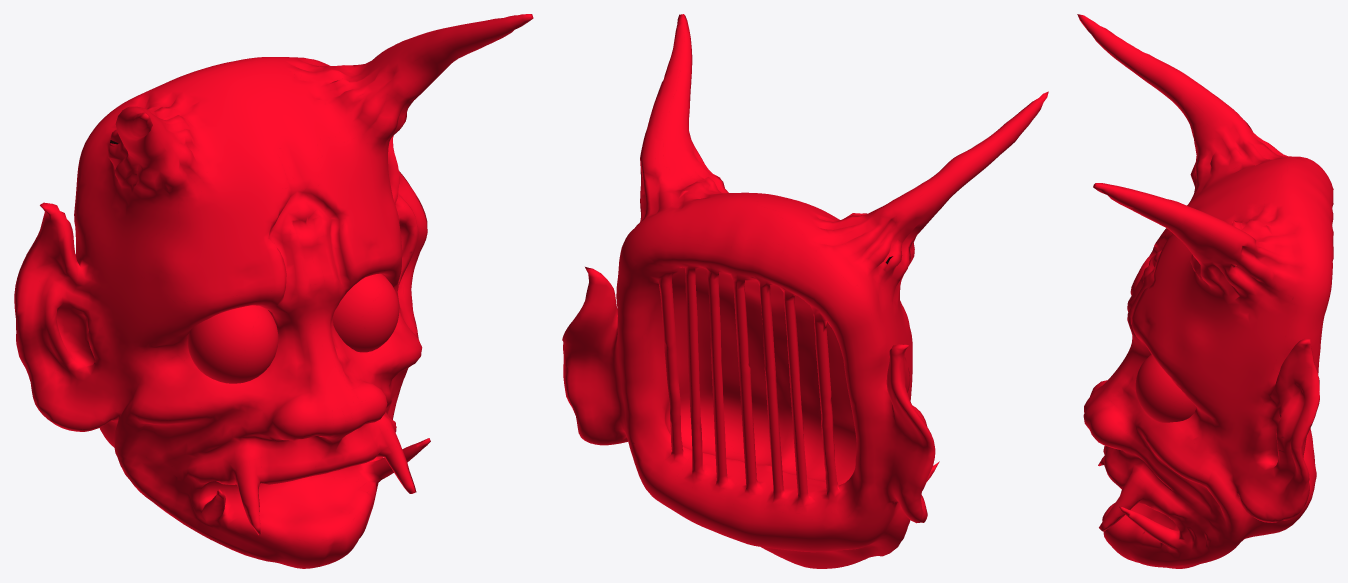
The model's file is mask.glb.
3 views of the same model, side by side, from view 1: azimuth 30°, elevation 25°; view 2: azimuth 150°, elevation 25°; view 3: azimuth 270°, elevation 25° (orthographic). The views are drawn at different scales.
Parts seen in each view (by area): view 1: lowpolymask.002; view 2: lowpolymask.002; view 3: lowpolymask.002.
Boxes of the visible parts, <box> form: lowpolymask.002: <box>14,14,533,568</box>; lowpolymask.002: <box>562,14,1048,568</box>; lowpolymask.002: <box>1077,14,1333,568</box>.
Size of the model in its own units: 10.07 by 12.48 by 6.26.
1 material, 1 textured.
